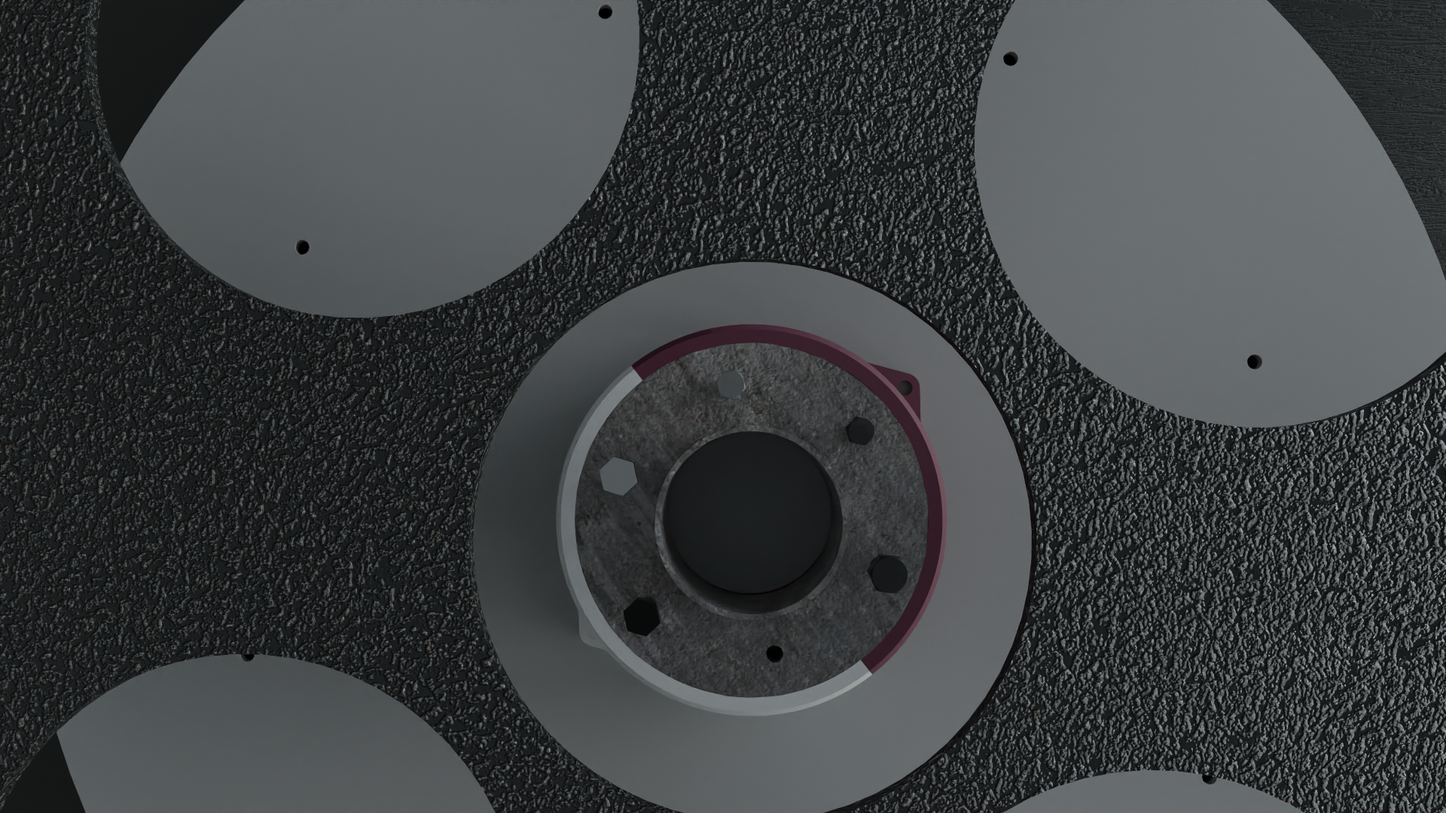bolt: (869, 556, 910, 593), (599, 457, 637, 496), (623, 598, 660, 636), (715, 370, 746, 400), (847, 416, 876, 446)
